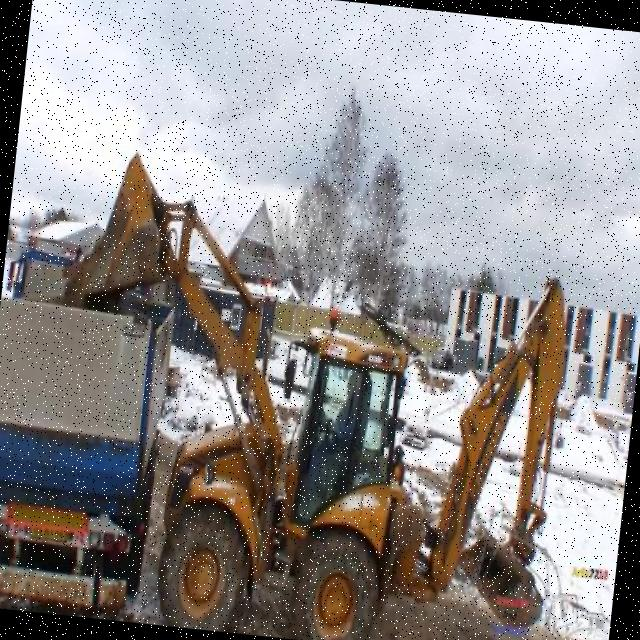Dump Truck: (0, 277, 176, 623)
